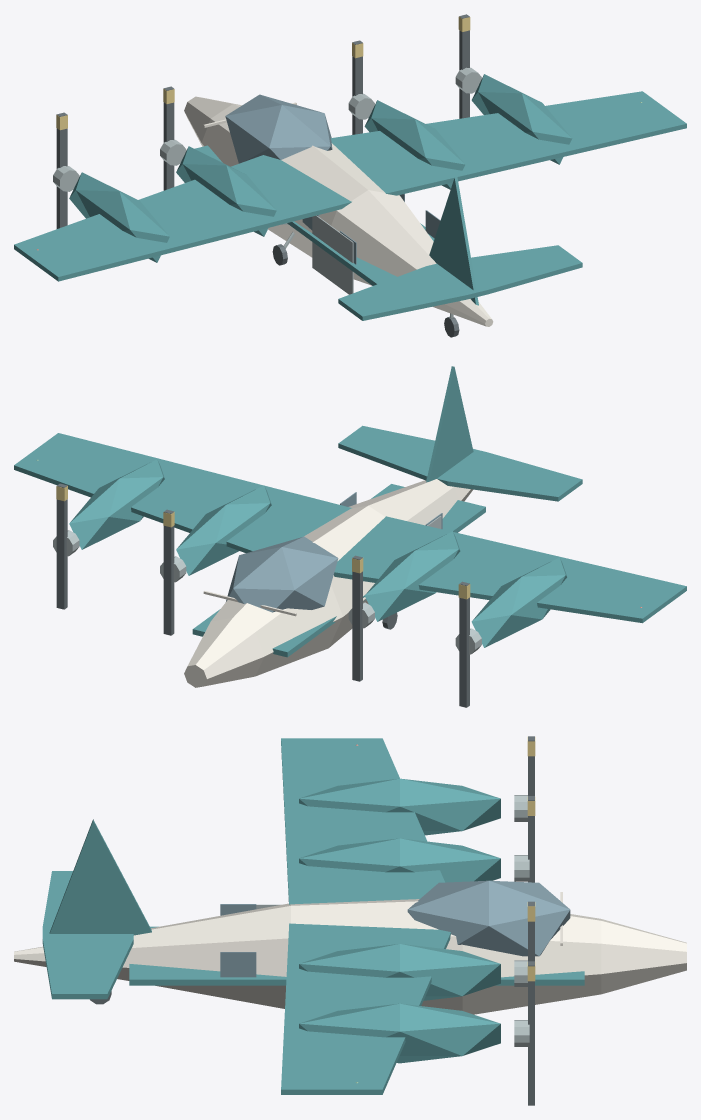
File: heavy_freighter.glb
3 renders of one model, top to bottom at view 1: azimuth 30°, elevation 25°; view 2: azimuth 150°, elevation 25°; view 3: azimuth 270°, elevation 25°, orthographic. The views are drawn at different scales.
Visible parts, largest first — view 1: heavy_freighter__main_wings, heavy_freighter__faceted_fuselage, heavy_freighter__tailplane, heavy_freighter__cockpit_canopy, heavy_freighter__engine_nacelle, heavy_freighter__engine_nacelle.003, heavy_freighter__engine_nacelle.001, heavy_freighter__engine_nacelle.002, heavy_freighter__vertical_tail, heavy_freighter__cargo_door, heavy_freighter__signature_stripe, heavy_freighter__Propeller_blades (+7 smaller); view 2: heavy_freighter__main_wings, heavy_freighter__faceted_fuselage, heavy_freighter__tailplane, heavy_freighter__cockpit_canopy, heavy_freighter__engine_nacelle, heavy_freighter__engine_nacelle.003, heavy_freighter__engine_nacelle.001, heavy_freighter__engine_nacelle.002, heavy_freighter__vertical_tail, heavy_freighter__signature_stripe, heavy_freighter__Propeller_blades.002, heavy_freighter__Propeller_blades.003 (+2 smaller); view 3: heavy_freighter__main_wings, heavy_freighter__faceted_fuselage, heavy_freighter__cockpit_canopy, heavy_freighter__engine_nacelle.003, heavy_freighter__engine_nacelle, heavy_freighter__engine_nacelle.002, heavy_freighter__vertical_tail, heavy_freighter__tailplane, heavy_freighter__engine_nacelle.001, heavy_freighter__signature_stripe, heavy_freighter__cabin_window.001, heavy_freighter__Propeller_blades.003.
Boxes of the visible parts, <box> form: heavy_freighter__main_wings: <box>14,91,686,281</box>; heavy_freighter__faceted_fuselage: <box>184,96,493,326</box>; heavy_freighter__tailplane: <box>338,245,582,320</box>; heavy_freighter__cockpit_canopy: <box>225,94,332,163</box>; heavy_freighter__engine_nacelle: <box>69,172,169,262</box>; heavy_freighter__engine_nacelle.003: <box>471,74,572,164</box>; heavy_freighter__engine_nacelle.001: <box>176,146,276,236</box>; heavy_freighter__engine_nacelle.002: <box>364,100,465,189</box>; heavy_freighter__vertical_tail: <box>429,177,478,305</box>; heavy_freighter__cargo_door: <box>312,215,353,294</box>; heavy_freighter__signature_stripe: <box>194,145,434,285</box>; heavy_freighter__Propeller_blades: <box>56,112,67,228</box>; heavy_freighter__main_wings: <box>14,433,686,623</box>; heavy_freighter__faceted_fuselage: <box>184,479,472,687</box>; heavy_freighter__tailplane: <box>338,425,582,501</box>; heavy_freighter__cockpit_canopy: <box>226,536,338,612</box>; heavy_freighter__engine_nacelle: <box>471,557,566,647</box>; heavy_freighter__engine_nacelle.003: <box>69,459,164,549</box>; heavy_freighter__engine_nacelle.001: <box>365,531,460,621</box>; heavy_freighter__engine_nacelle.002: <box>176,485,271,575</box>; heavy_freighter__vertical_tail: <box>426,366,473,482</box>; heavy_freighter__signature_stripe: <box>192,484,485,657</box>; heavy_freighter__Propeller_blades.002: <box>163,509,174,635</box>; heavy_freighter__Propeller_blades.003: <box>56,483,67,609</box>; heavy_freighter__main_wings: <box>281,738,450,1094</box>; heavy_freighter__faceted_fuselage: <box>14,899,686,1014</box>; heavy_freighter__cockpit_canopy: <box>407,880,570,956</box>; heavy_freighter__engine_nacelle.003: <box>299,1003,500,1063</box>; heavy_freighter__engine_nacelle: <box>299,778,500,835</box>; heavy_freighter__engine_nacelle.002: <box>299,944,500,1000</box>; heavy_freighter__vertical_tail: <box>49,819,151,935</box>; heavy_freighter__tailplane: <box>42,871,133,999</box>; heavy_freighter__engine_nacelle.001: <box>299,838,500,882</box>; heavy_freighter__signature_stripe: <box>129,926,584,985</box>; heavy_freighter__cabin_window.001: <box>220,952,256,977</box>; heavy_freighter__Propeller_blades.003: <box>528,961,534,1105</box>.
Bounding box in the file's own units: 29 × 7.48 × 23.46.
